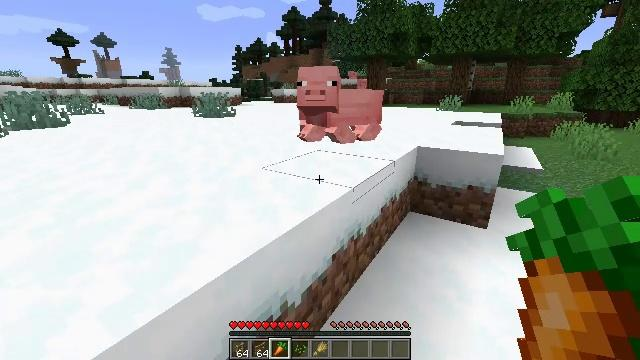pig: (296, 66, 382, 142), (355, 80, 369, 90), (348, 70, 357, 80)
